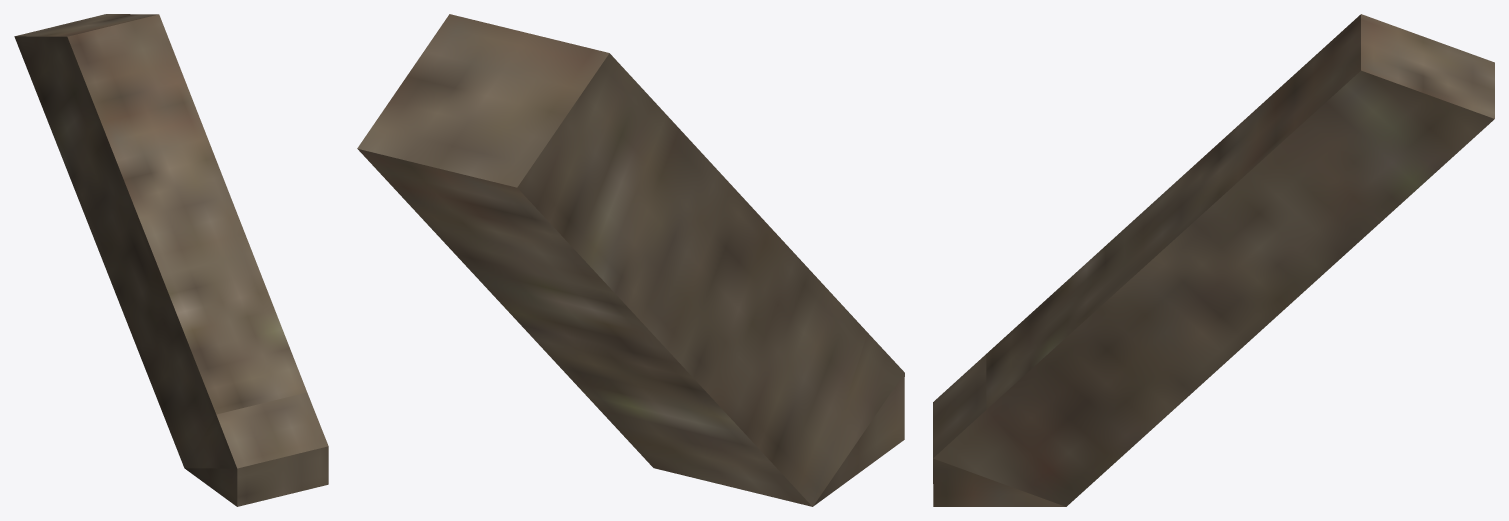
File: whitebeam_thin_branch_45_straight.obj
The picture shows the model from 3 angles, left to right: view 1: azimuth 30°, elevation 25°; view 2: azimuth 150°, elevation 25°; view 3: azimuth 270°, elevation 25°; orthographic projection. The views are drawn at different scales.
Visible parts, largest first — view 1: cube; view 2: cube; view 3: cube.
Part boxes in pixels (box(x1,y1,x2,y2)): cube: box(14, 14, 328, 506); cube: box(357, 14, 904, 506); cube: box(933, 14, 1494, 506).
Size of the model in its own units: 0.3125 by 1.12 by 1.31.
